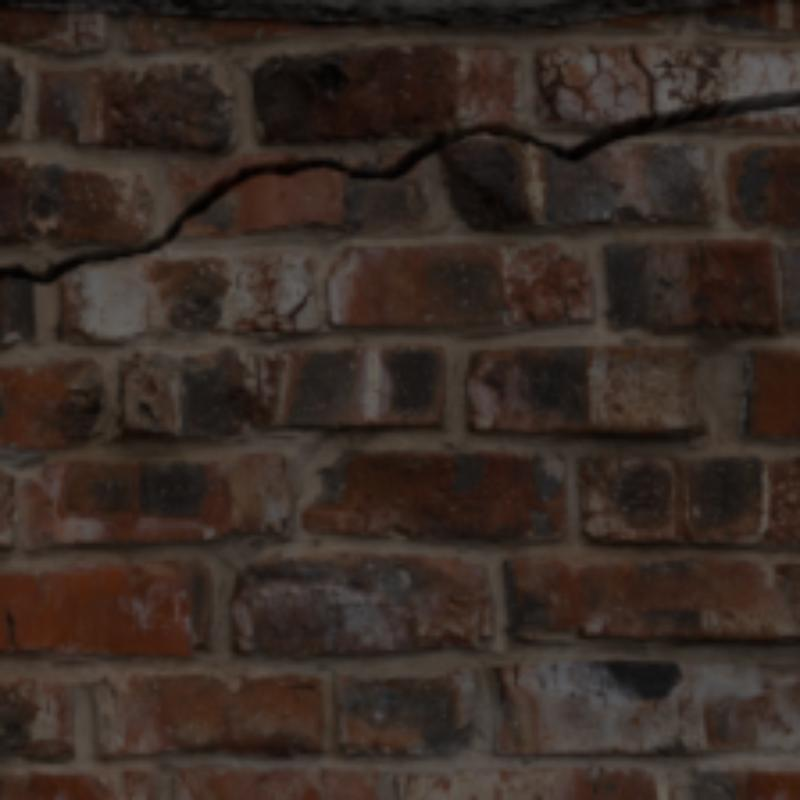pothole: (0, 93, 796, 282), (631, 46, 659, 110)
